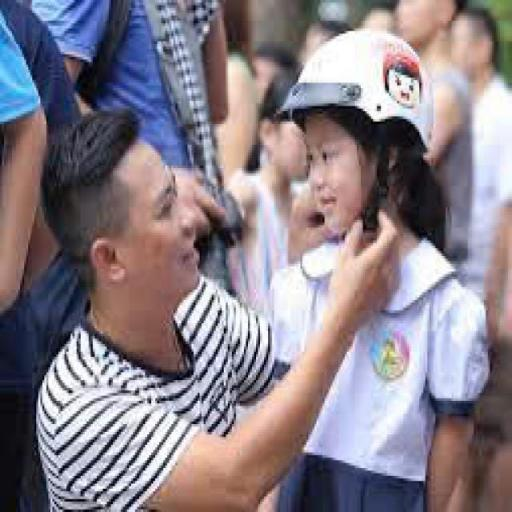with helmet: (272, 29, 437, 154)
